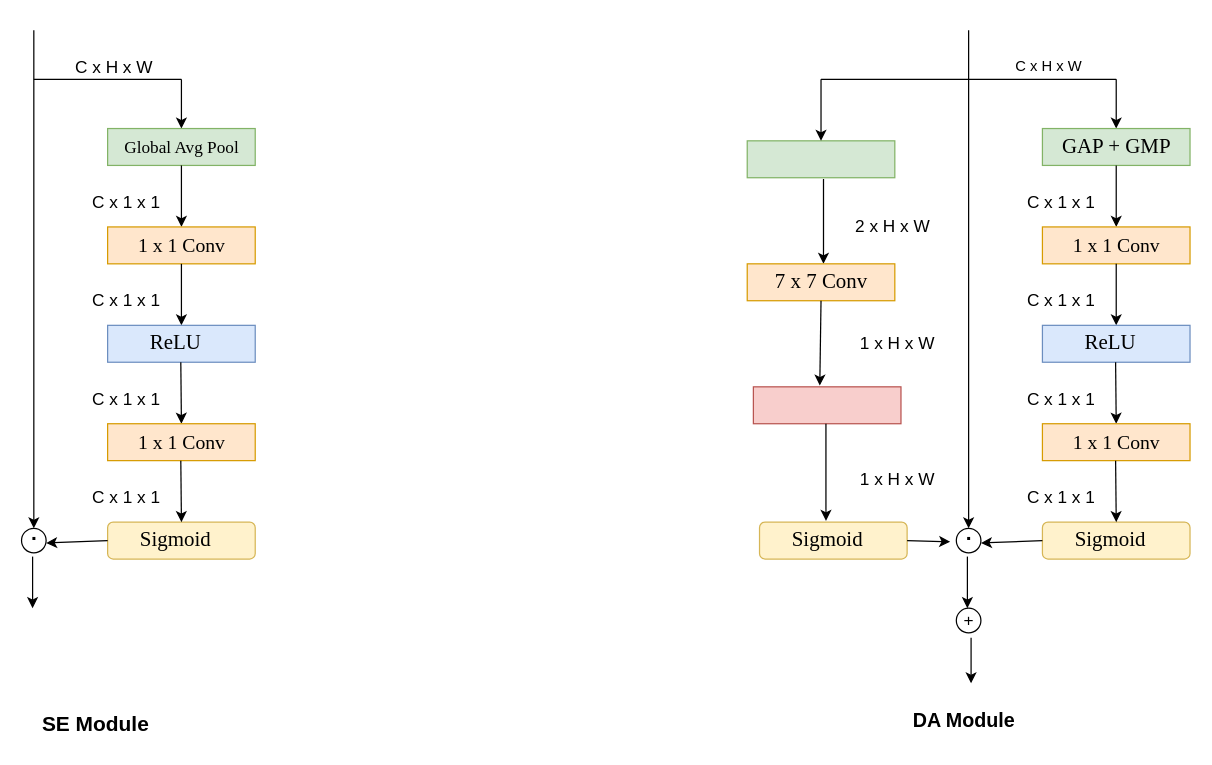
This 1212x765 diagram has some shape labels left out. Each missing label, with the box of its shape:
Batch Norm: (752, 386, 901, 424)
Channel Pool: (746, 140, 895, 178)
